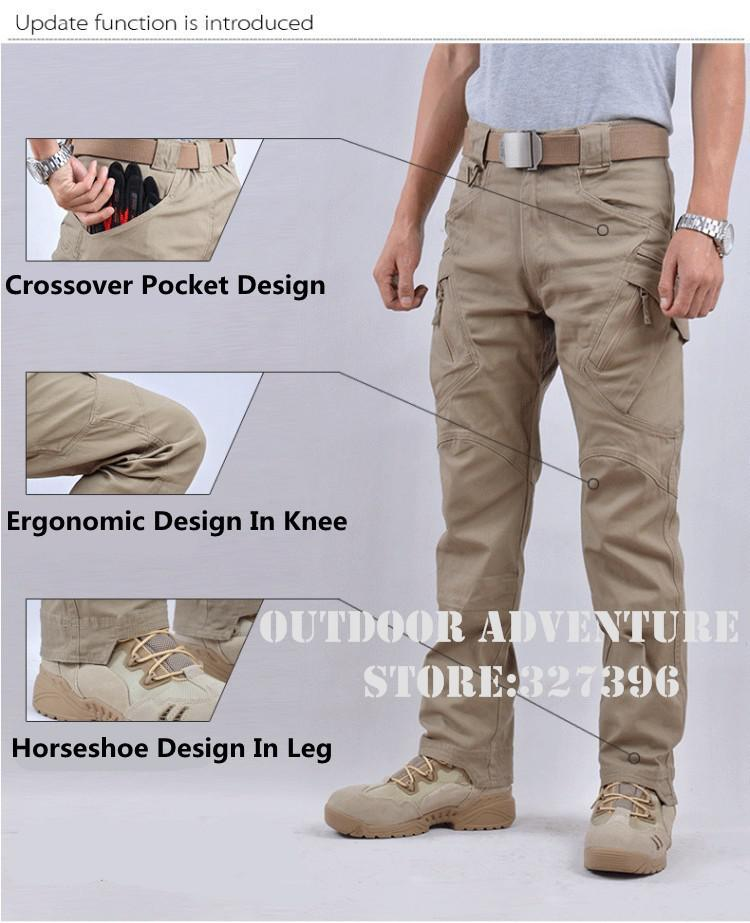pants: (414, 115, 676, 804)
